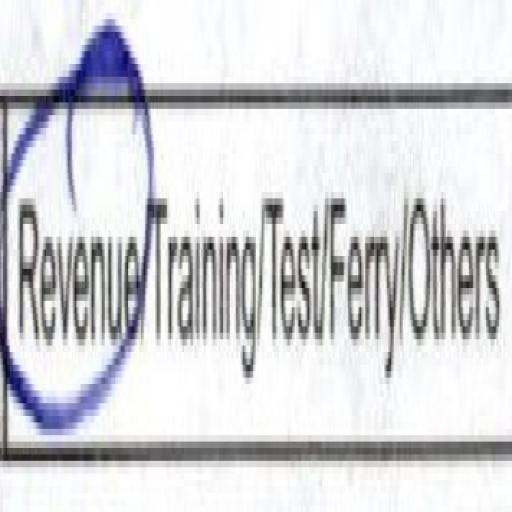check: (0, 56, 144, 470)
